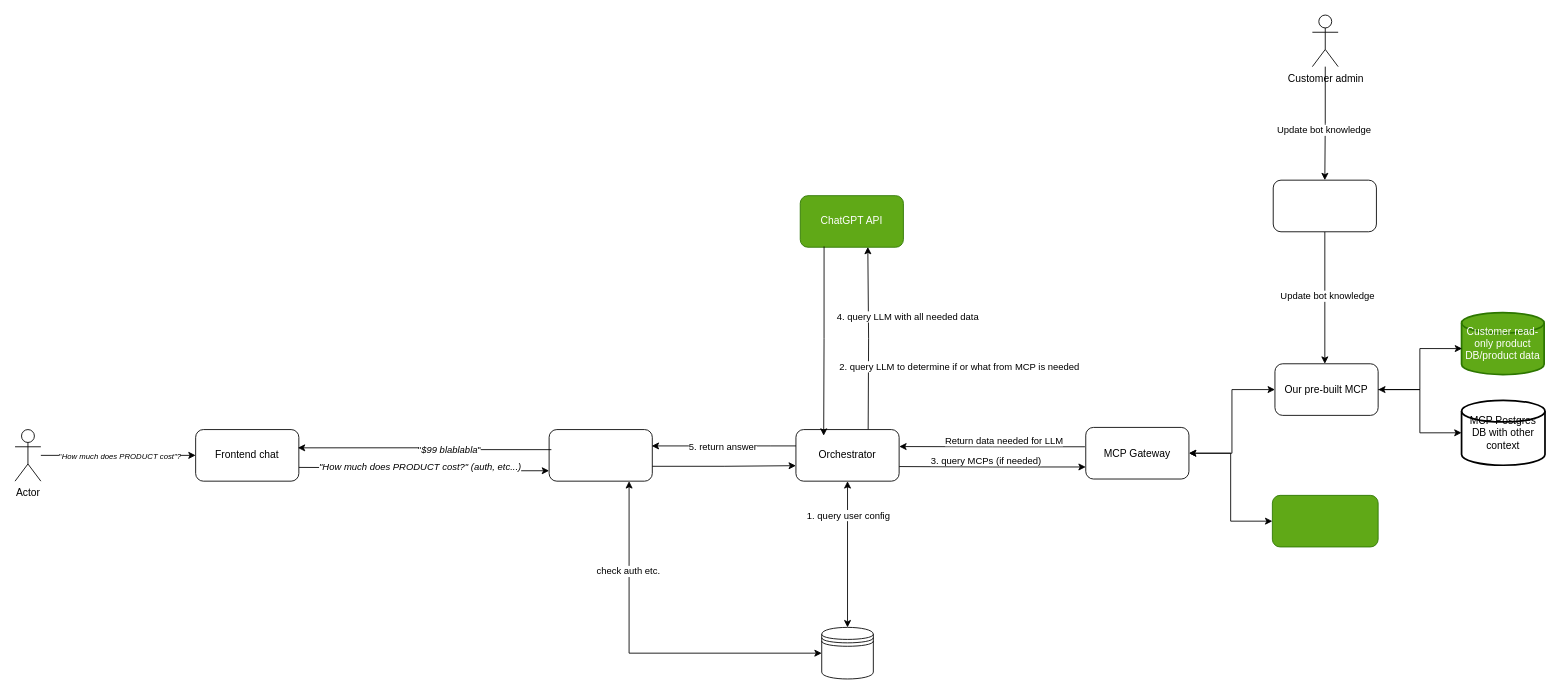
Image size: 1561x695. Some labels were removed from this diagram. The shapes that lost their labels are listed below. From the top down, each one's centre as x and y in pixels, then its label:
(1324,205): Frontend back-office
(600,455): Backend API
(1325,520): Custom MCP (not handled by us)
(847,653): Main Postgres DB
